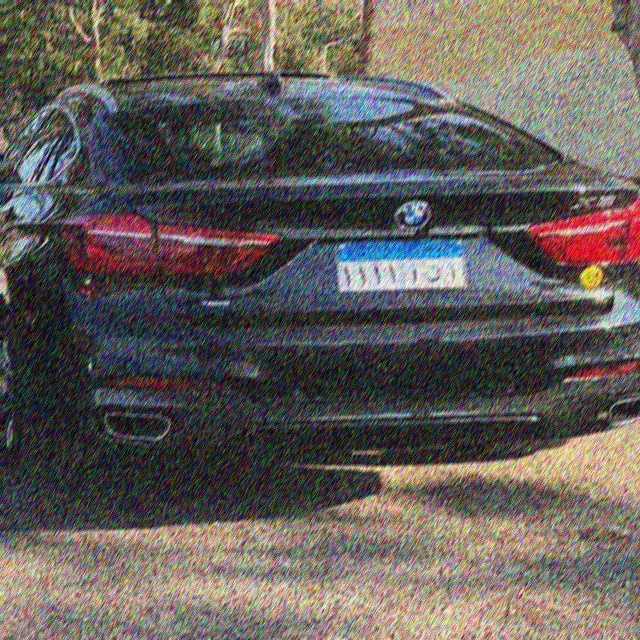License Plate: (332, 236, 469, 294)
